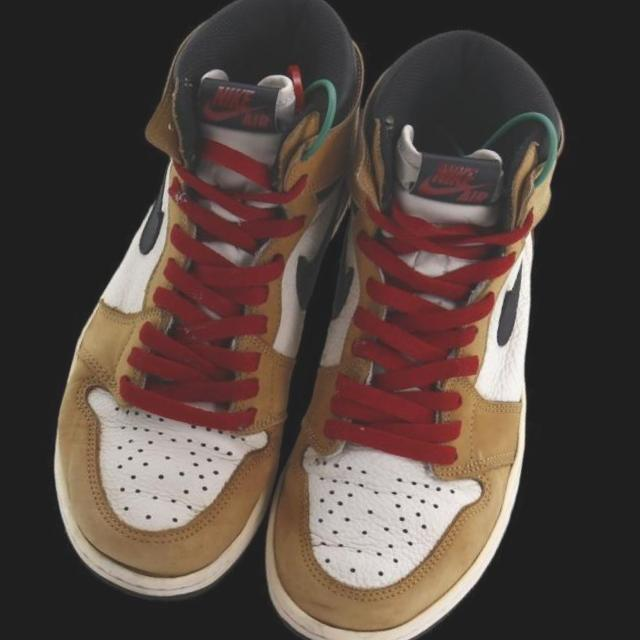nike_original_jordan: (228, 6, 631, 640), (23, 0, 394, 619)
